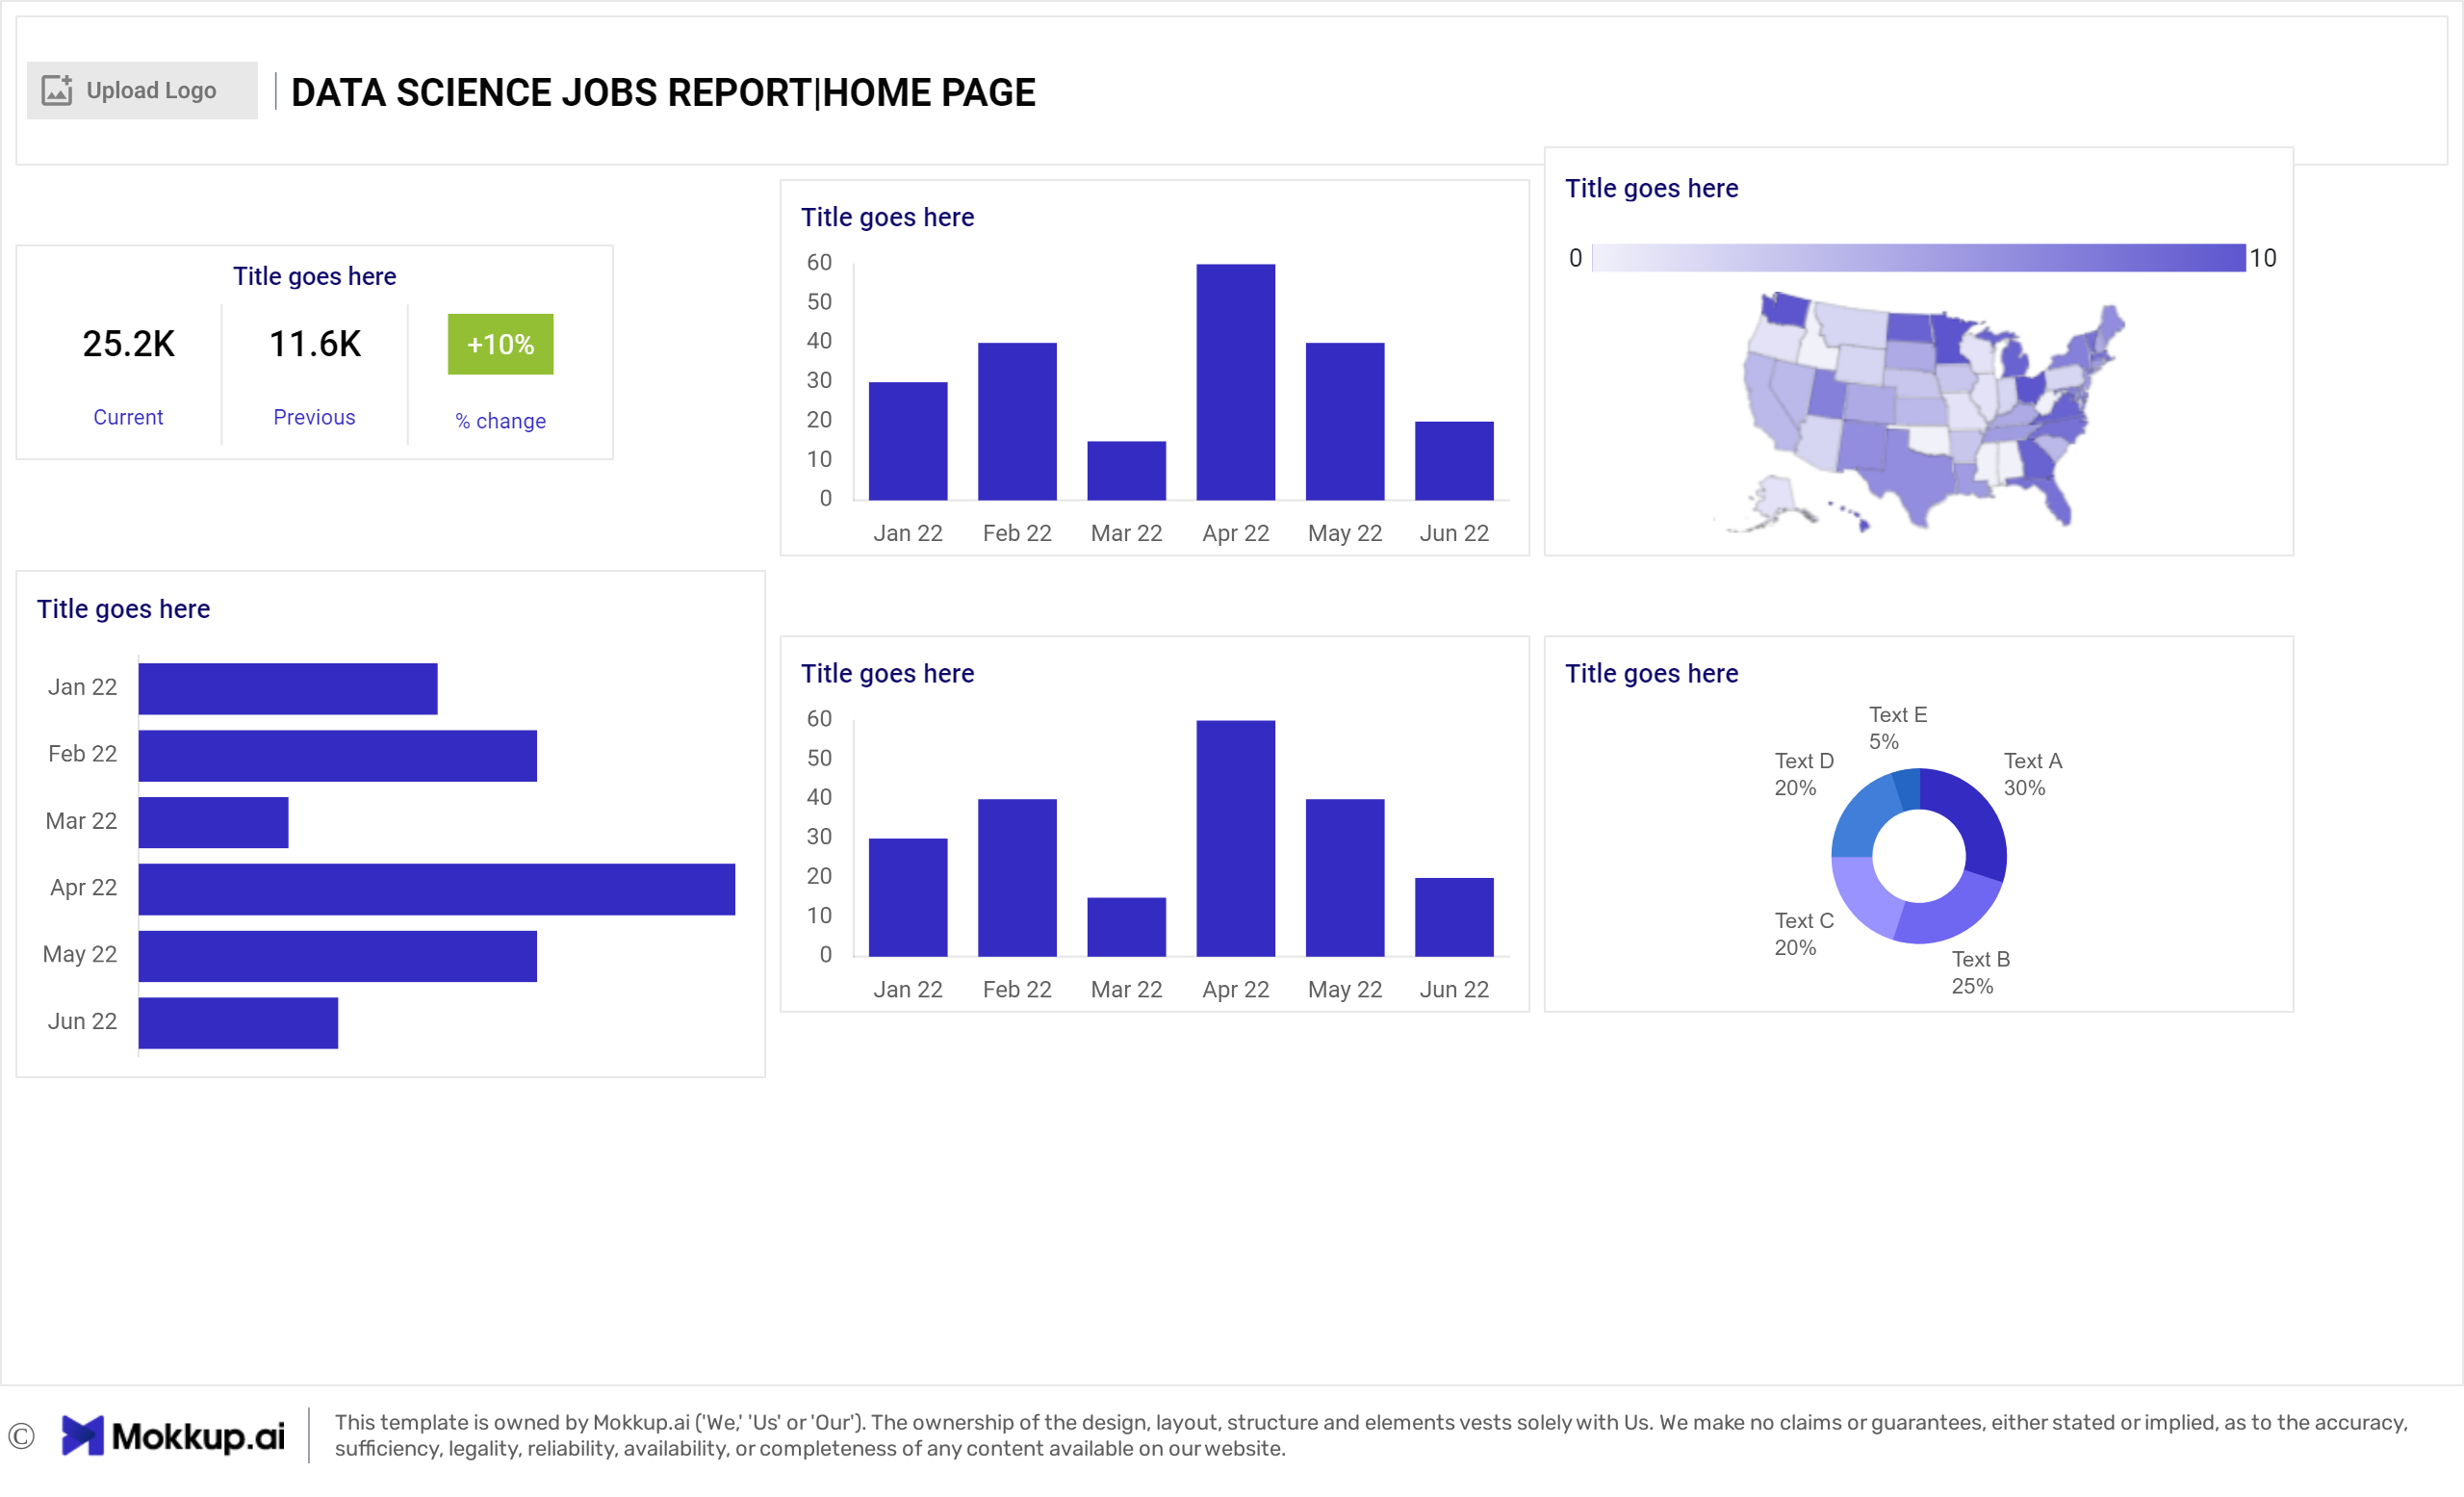

The page's visual inventory and layout, read from the dashboard file:
{"tool":"powerbi","page":{"name":"HOME PAGE","canvas":[1280,720],"ordinal":0},"visuals":[{"type":"shape","box":[12.1,10.6,1254.5,83.3],"z":0},{"type":"textbox","box":[33.3,19.7,683.3,65.2],"z":1000},{"type":"shape","box":[12.1,200,425.8,507.6],"z":2000},{"type":"shape","box":[454.5,115.2,403,297],"z":3000},{"type":"shape","box":[863.6,115.2,403,297],"z":4000},{"type":"shape","box":[454.5,422.7,403,284.8],"z":5000},{"type":"shape","box":[863.6,422.7,403,284.8],"z":6000},{"type":"cardVisual","fields":{"Data":["Data_Science_Jobss.Maximum Salary (K)","Data_Science_Jobss.Minimum Salary (K)","Data_Science_Jobss.Average Salary"]},"box":[12.1,104.5,425.8,90.9],"z":7000},{"type":"barChart","title":"Top 10 Sectors With Highest Salaries","fields":{"Y":["Data_Science_Jobss.Maximum Salary (K)"],"Category":["Data_Science_Jobss.Sector"]},"box":[19.7,218.2,410.6,471.2],"z":8000},{"type":"columnChart","title":"Top 5 Job Titles With  Highest Salaries","fields":{"Y":["Data_Science_Jobss.Maximum Salary (K)"],"Category":["Data_Science_Jobss.Job_Title"]},"box":[472.7,125.8,366.7,274.2],"z":9000},{"type":"columnChart","title":"Bottom 5 Job Titles With Lowest Salaries","fields":{"Category":["Data_Science_Jobss.Job_Title"],"Y":["Data_Science_Jobss.Minimum Salary (K)"]},"box":[472.7,427.3,366.7,274.2],"z":10000},{"type":"map","title":"Average Salaries(K) by Location and Job_State","fields":{"Series":["Data_Science_Jobss.Location"],"Category":["Data_Science_Jobss.Job_State"],"Size":["Data_Science_Jobss.Average Salary(K)"]},"box":[874.2,127.3,380.3,272.7],"z":11000},{"type":"donutChart","title":"Top 5 Rated Industries","fields":{"Category":["Data_Science_Jobss.Industry"],"Y":["Avg(Data_Science_Jobss.Rating)"]},"box":[880.3,442.4,369.7,247],"z":12000},{"type":"slicer","fields":{"Values":["Data_Science_Jobss.Type_Of_Ownership"]},"box":[795.1,19.8,192.8,65.2],"z":12001},{"type":"slicer","fields":{"Values":["Data_Science_Jobss.Size"]},"box":[1031.8,19.8,192.8,65.2],"z":12002},{"type":"textbox","box":[690.2,36.9,75.1,31.2],"z":12003}]}

Visuals, with their boxes on the page's 1280x720 design canvas (x1, y1, x2, y2). These are canvas units, not pixel positions in the 2464x1497 screenshot, which may show the page scaled, cropped or inside an application window:
shape: crop(12, 11, 1267, 94)
textbox: crop(33, 20, 717, 85)
shape: crop(12, 200, 438, 708)
shape: crop(454, 115, 858, 412)
shape: crop(864, 115, 1267, 412)
shape: crop(454, 423, 858, 708)
shape: crop(864, 423, 1267, 708)
cardVisual - Data_Science_Jobss.Maximum Salary (K) x Data_Science_Jobss.Minimum Salary (K): crop(12, 104, 438, 195)
"Top 10 Sectors With Highest Salaries" barChart: crop(20, 218, 430, 689)
"Top 5 Job Titles With  Highest Salaries" columnChart: crop(473, 126, 839, 400)
"Bottom 5 Job Titles With Lowest Salaries" columnChart: crop(473, 427, 839, 702)
"Average Salaries(K) by Location and Job_State" map: crop(874, 127, 1254, 400)
"Top 5 Rated Industries" donutChart: crop(880, 442, 1250, 689)
slicer - Data_Science_Jobss.Type_Of_Ownership: crop(795, 20, 988, 85)
slicer - Data_Science_Jobss.Size: crop(1032, 20, 1225, 85)
textbox: crop(690, 37, 765, 68)
